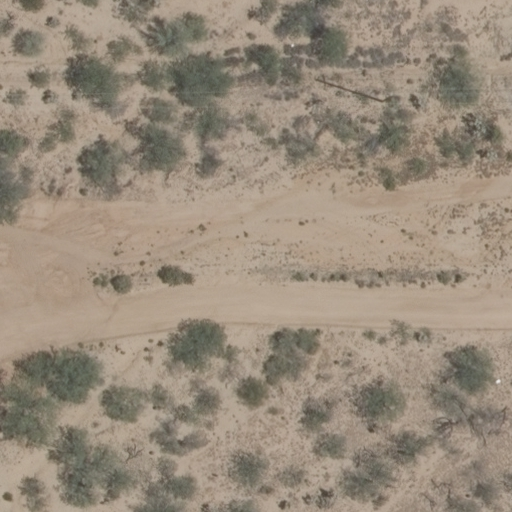DT: (380, 90, 396, 106)
